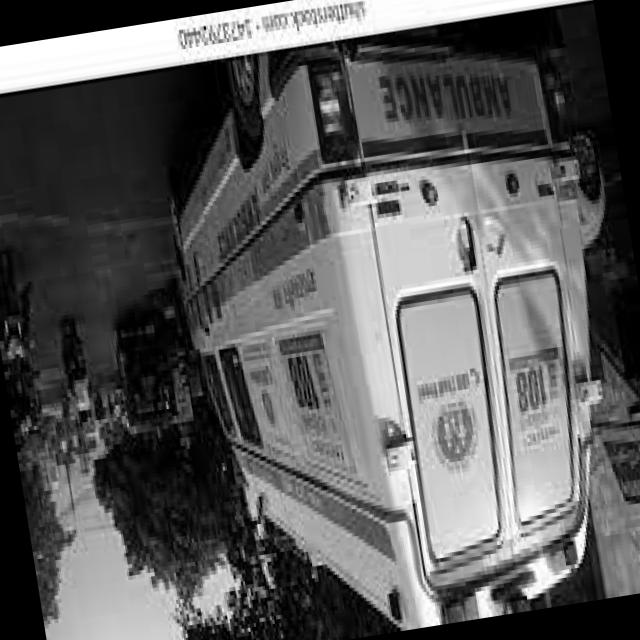ambulance: (143, 31, 640, 640)
